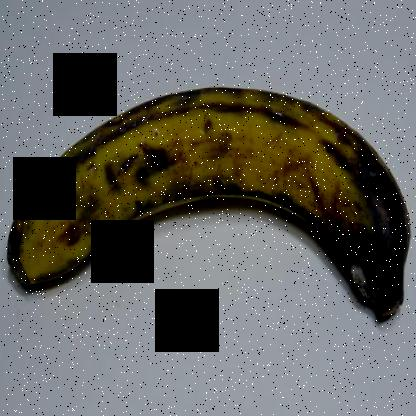overripe: (1, 66, 415, 379)
rotten: (315, 152, 415, 323)
